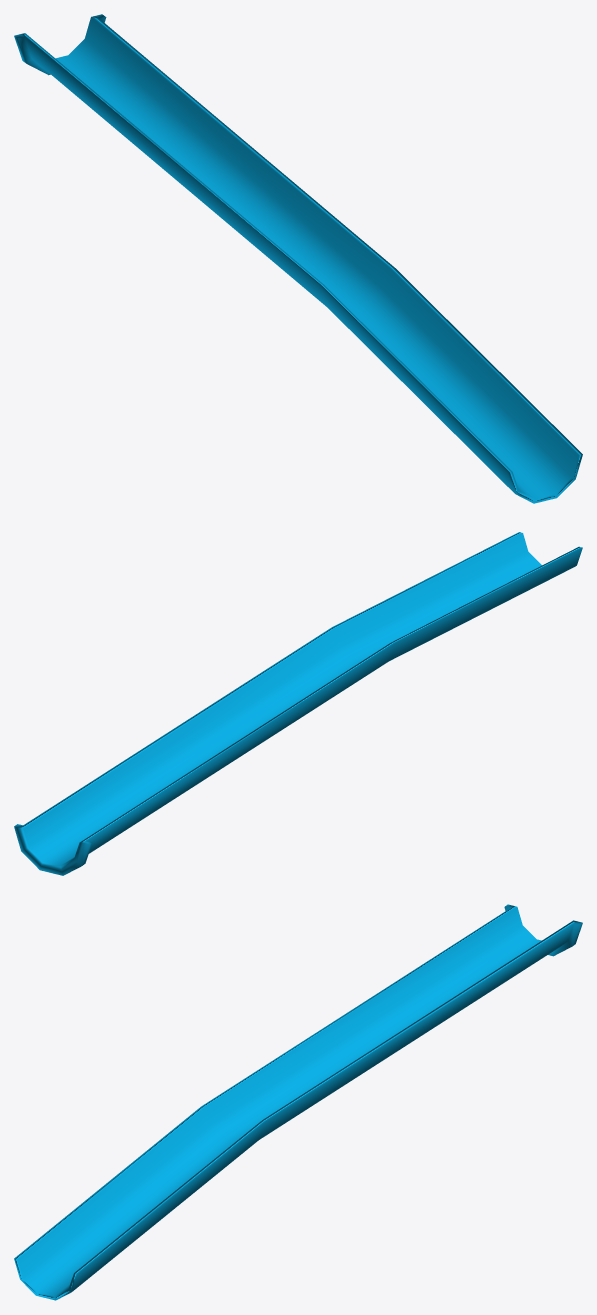
The model's file is Gutter_02.fbx.
The picture shows the model from 3 angles, top to bottom: view 1: azimuth 30°, elevation 25°; view 2: azimuth 150°, elevation 25°; view 3: azimuth 330°, elevation 25°; orthographic projection. The views are drawn at different scales.
Parts seen in each view (by area): view 1: Gutter_02; view 2: Gutter_02; view 3: Gutter_02.
Boxes of the visible parts, left/top/right/bottom form: Gutter_02: left=14, top=14, right=582, bottom=503; Gutter_02: left=14, top=532, right=582, bottom=875; Gutter_02: left=14, top=904, right=582, bottom=1300.
Size of the model in its own units: 21.22 by 10.93 by 150.
